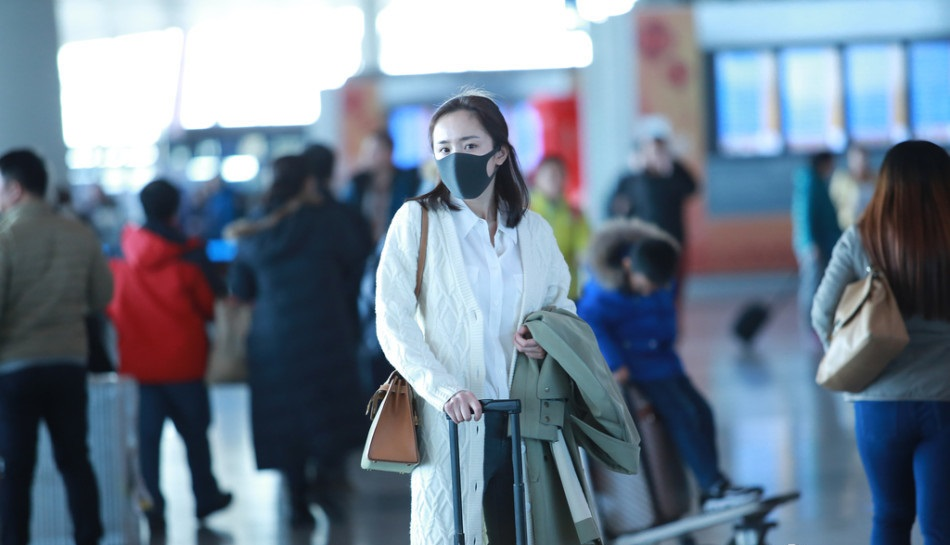face_mask: (433, 117, 492, 202)
